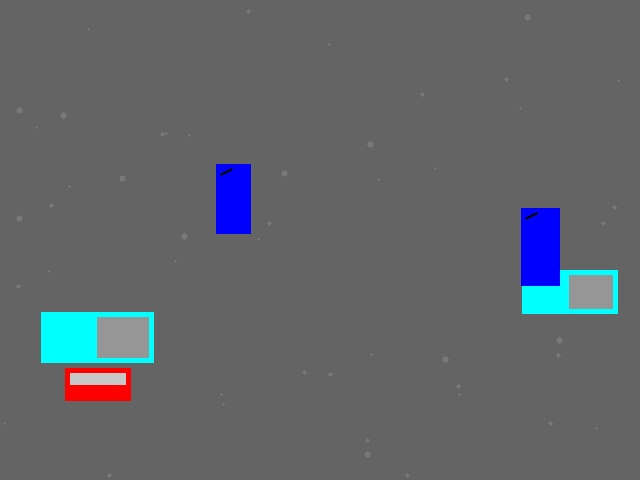car: (65, 368, 130, 400)
motorcycle: (521, 208, 559, 285), (216, 164, 250, 233)
truck: (41, 312, 153, 362), (522, 270, 617, 313)
